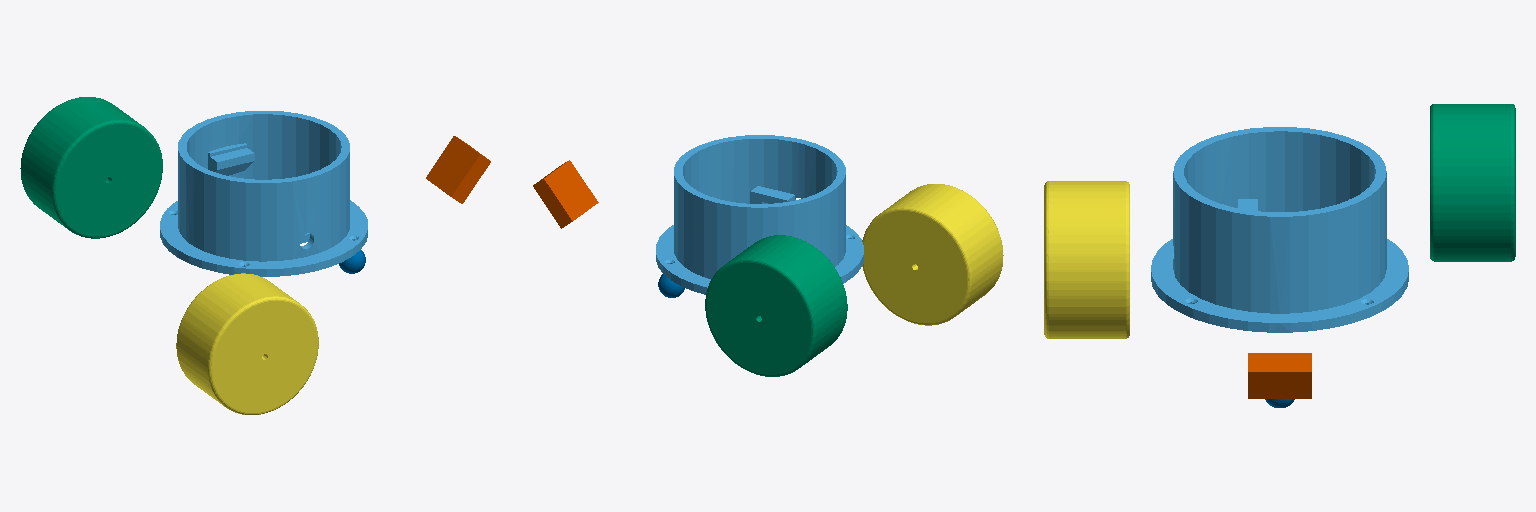
robot.urdf — alfr3:
<?xml version="1.0"?>
<robot name="alfr3">

  <!-- Dummy root link -->
  <link name="dummy_link"/>
  <joint name="base_fixed_joint" type="fixed">
    <parent link="dummy_link"/>
    <child link="base_link"/>
    <origin xyz="0 0 0" rpy="0 0 0"/>
  </joint>

  <!-- ================= Base Link ================= -->
  <link name="base_link">
    <inertial>
      <origin xyz="0 0 0" rpy="0 0 0"/>
      <mass value="0.7"/>
      <inertia ixx="0.005" ixy="0" ixz="0"
               iyy="0.005" iyz="0"
               izz="0.005"/>
    </inertial>

    <visual>
      <geometry>
        <mesh filename="package://alfr3/meshes/base_link.STL"/>
      </geometry>
      <material name="Gazebo/Blue"/>
    </visual>

    <collision>
      <geometry>
        <mesh filename="package://alfr3/meshes/base_link.STL"/>
      </geometry>
    </collision>
  </link>

  <!-- ================= Left Wheel ================= -->
  <link name="left_wheel">
    <inertial>
      <mass value="0.15"/>
      <inertia ixx="0.00012" ixy="0" ixz="0"
               iyy="0.00012" iyz="0" izz="0.00015"/>
    </inertial>

    <visual>
      <geometry>
        <mesh filename="package://alfr3/meshes/left_wheel.STL"/>
      </geometry>
      <material name="Gazebo/Black"/>
    </visual>

    <collision>
      <geometry>
        <mesh filename="package://alfr3/meshes/left_wheel.STL"/>
      </geometry>
    </collision>
  </link>

  <joint name="left_wheel_joint" type="continuous">
    <parent link="base_link"/>
    <child link="left_wheel"/>
    <!-- lifted slightly to align with right wheel -->
    <origin xyz="-0.06317 0.1103 0.02" rpy="-1.5708 0 0"/>
    <axis xyz="0 0 1"/>
    <dynamics damping="0.5" friction="1.0"/>
    <limit effort="6.0" velocity="12.0"/>
  </joint>

  <!-- ================= Right Wheel ================= -->
  <link name="right_wheel">
    <inertial>
      <mass value="0.15"/>
      <inertia ixx="0.00012" ixy="0" ixz="0"
               iyy="0.00012" iyz="0" izz="0.00015"/>
    </inertial>

    <visual>
      <geometry>
        <mesh filename="package://alfr3/meshes/right_wheel.STL"/>
      </geometry>
      <material name="Gazebo/Black"/>
    </visual>

    <collision>
      <geometry>
        <mesh filename="package://alfr3/meshes/right_wheel.STL"/>
      </geometry>
    </collision>
  </link>

  <joint name="right_wheel_joint" type="continuous">
    <parent link="base_link"/>
    <child link="right_wheel"/>
    <!-- lowered slightly to align with left wheel -->
    <origin xyz="-0.06317 -0.1103 -0.02" rpy="-1.5708 0 0"/>
    <axis xyz="0 0 1"/>
    <dynamics damping="0.5" friction="1.0"/>
    <limit effort="6.0" velocity="12.0"/>
  </joint>

  <!-- ================= Castor Wheel ================= -->
  <link name="castor_wheel">
    <inertial>
      <mass value="0.02"/>
      <inertia ixx="5e-6" ixy="0" ixz="0"
               iyy="5e-6" iyz="0" izz="5e-6"/>
    </inertial>

    <visual>
      <geometry>
        <mesh filename="package://alfr3/meshes/castor_wheel.STL"/>
      </geometry>
      <material name="Gazebo/Grey"/>
    </visual>

    <collision>
      <geometry>
        <sphere radius="0.025"/>
      </geometry>
    </collision>
  </link>

  <joint name="castor_wheel_joint" type="revolute">
    <parent link="base_link"/>
    <child link="castor_wheel"/>
    <origin xyz="0.05883 0 -0.031" rpy="0 0 0"/>
    <axis xyz="0 0 1"/>
    <dynamics damping="5.0" friction="0.2"/>
    <limit effort="0.5" velocity="6.0"/>
  </joint>

  <!-- ================= Camera ================= -->
  <link name="camera_link">
    <inertial>
      <mass value="1e-5"/>
      <inertia ixx="1e-6" ixy="0" ixz="0"
               iyy="1e-6" iyz="0" izz="1e-6"/>
    </inertial>

    <visual>
      <geometry>
        <box size="0.01 0.03 0.03"/>
      </geometry>
      <material name="Gazebo/Grey"/>
    </visual>

    <collision>
      <geometry>
        <box size="0.02 0.05 0.05"/>
      </geometry>
    </collision>
  </link>

  <joint name="camera_joint" type="fixed">
    <parent link="base_link"/>
    <child link="camera_link"/>
    <origin xyz="0.13 0 0.01" rpy="0 0.7 0"/>
  </joint>

  <!-- Gazebo Camera Sensor Plugin -->
  <gazebo reference="camera_link">
    <sensor type="camera" name="camera">
      <update_rate>30</update_rate>
      <camera>
        <horizontal_fov>1.396</horizontal_fov>
        <image>
          <width>640</width>
          <height>480</height>
          <format>R8G8B8</format>
        </image>
        <clip>
          <near>0.1</near>
          <far>100</far>
        </clip>
      </camera>
      <plugin name="camera_controller" filename="libgazebo_ros_camera.so">
        <alwaysOn>true</alwaysOn>
        <updateRate>30.0</updateRate>
        <cameraName>camera</cameraName>
        <imageTopicName>image_raw</imageTopicName>
        <cameraInfoTopicName>camera_info</cameraInfoTopicName>
        <frameName>camera_link</frameName>
      </plugin>
    </sensor>
  </gazebo>

  <!-- ================= Gazebo ros_control plugin ================= -->
  <gazebo>
    <plugin name="gazebo_ros_control" filename="libgazebo_ros_control.so">
      <robotNamespace>/</robotNamespace>
    </plugin>
  </gazebo>

</robot>

--- What the picture shows (computed from the rendered views, not written in the file) ---
The picture shows the robot from 3 angles, left to right: view 1: azimuth 30°, elevation 25°; view 2: azimuth 150°, elevation 25°; view 3: azimuth 270°, elevation 25°; orthographic projection.
Model alfr3 with 6 links and 5 joints (1 revolute, 2 continuous, 2 fixed), rooted at dummy_link, posed every joint at zero.
Links seen in each view (by area): view 1: base_link, right_wheel, left_wheel, camera_link; view 2: base_link, left_wheel, right_wheel, camera_link; view 3: base_link, left_wheel, right_wheel, camera_link.
Link boxes in pixels (<box>): base_link: <box>160,111,367,276</box>; right_wheel: <box>176,273,318,414</box>; left_wheel: <box>20,97,162,238</box>; camera_link: <box>426,136,490,203</box>; base_link: <box>656,135,863,294</box>; left_wheel: <box>705,235,847,376</box>; right_wheel: <box>862,184,1003,325</box>; camera_link: <box>533,160,598,228</box>; base_link: <box>1151,127,1408,332</box>; left_wheel: <box>1430,104,1515,261</box>; right_wheel: <box>1044,181,1129,338</box>; camera_link: <box>1248,353,1311,398</box>.
Bounding box of the posed robot: 0.2437 × 0.2206 × 0.114 m (x, y, z).
Meshes: 4 distinct files referenced, 4 mesh visuals loaded (4 binary STL).
